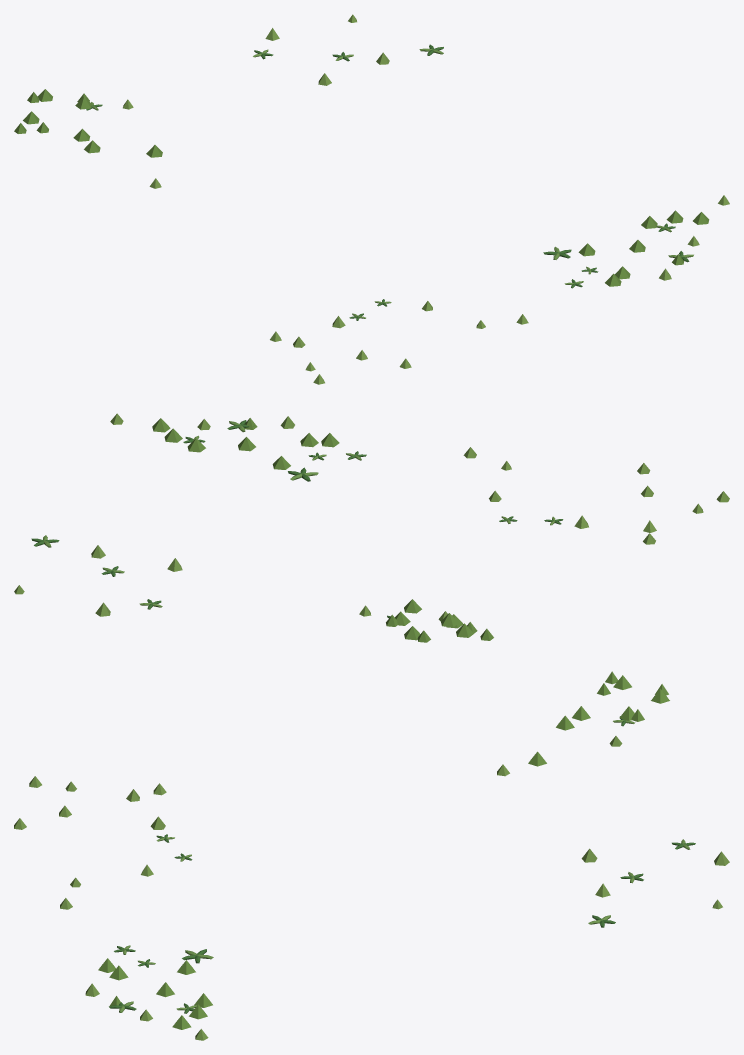
Rendered from windward_ridge_gate_nonsolid_props.fbx.
3 views of the same model, one above another, from view 1: azimuth 30°, elevation 25°; view 2: azimuth 150°, elevation 25°; view 3: azimuth 270°, elevation 25° (orthographic). The views are drawn at different scales.
Visible parts, largest first — view 1: chunk_windward_ridge_gate__PropsNonSolid; view 2: chunk_windward_ridge_gate__PropsNonSolid; view 3: chunk_windward_ridge_gate__PropsNonSolid.
Part boxes in pixels (x1,y1,x2,y2): chunk_windward_ridge_gate__PropsNonSolid: [14, 14, 729, 384]; chunk_windward_ridge_gate__PropsNonSolid: [14, 413, 729, 642]; chunk_windward_ridge_gate__PropsNonSolid: [14, 671, 729, 1040].
Bounding box in the file's own units: 188 × 31.53 × 196.
